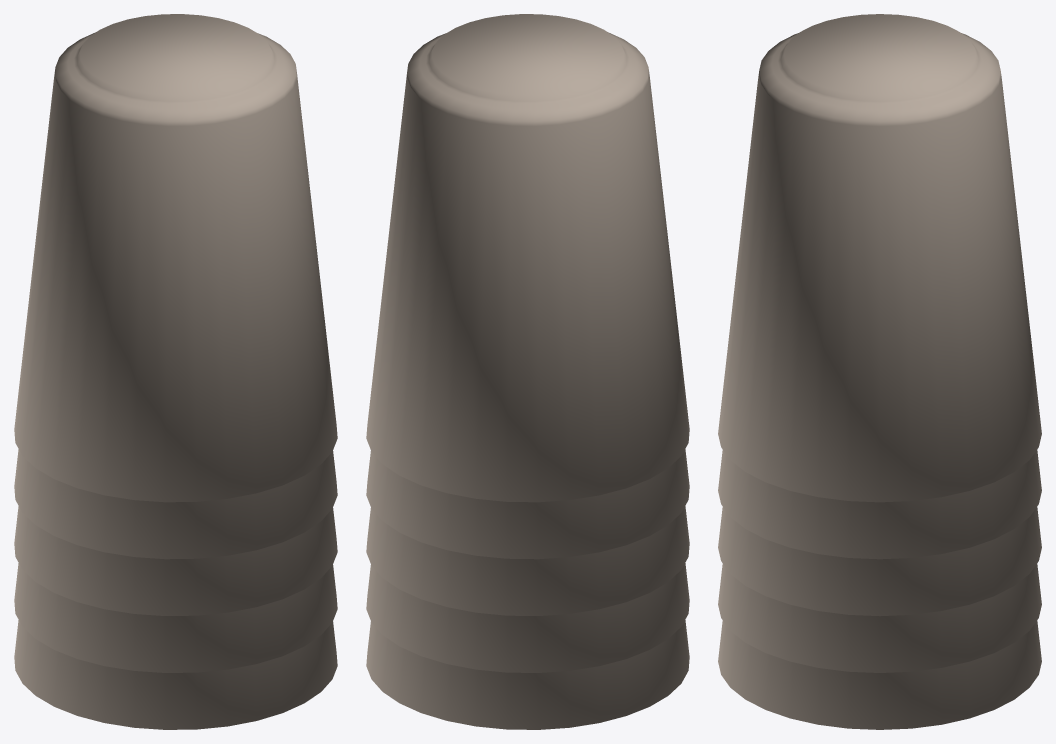
File: stack of cups2.fbx
3 renders of one model, left to right at view 1: azimuth 30°, elevation 25°; view 2: azimuth 150°, elevation 25°; view 3: azimuth 270°, elevation 25°, orthographic.
Visible parts, largest first — view 1: Cylinder; view 2: Cylinder; view 3: Cylinder.
Part boxes in pixels (x1,y1,x2,y2): Cylinder: (14, 14, 337, 729); Cylinder: (366, 14, 689, 729); Cylinder: (718, 14, 1041, 729).
Bounding box in the file's own units: 187 × 386 × 187.
